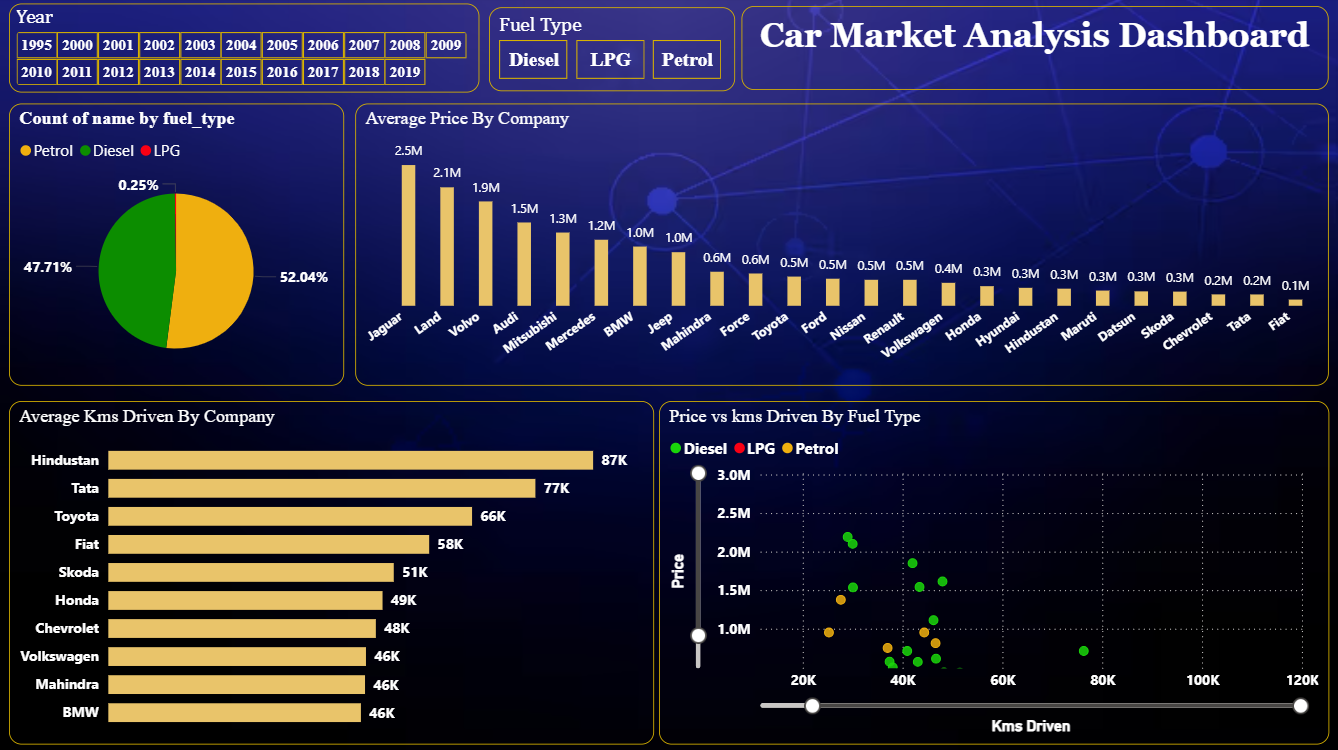

The page's visual inventory and layout, read from the dashboard file:
{"tool":"powerbi","page":{"name":"Dashboard 2","canvas":[1280,720],"ordinal":1},"visuals":[{"type":"textbox","box":[707.1,9.5,559.5,79.8],"z":0},{"type":"clusteredBarChart","title":"Average Kms Driven By Company","fields":{"Category":["Cars_Dataset_Cleand.company"],"Y":["Avg(Cars_Dataset_Cleand.kms_driven)"]},"box":[9.5,385.7,614.3,327.4],"z":1000},{"type":"pieChart","fields":{"Category":["Cars_Dataset_Cleand.fuel_type"],"Y":["CountNonNull(Cars_Dataset_Cleand.name)"]},"box":[9.5,102.4,319,269],"z":2000},{"type":"scatterChart","title":"Price vs kms Driven By Fuel Type","fields":{"X":["Avg(Cars_Dataset_Cleand.kms_driven)"],"Category":["Cars_Dataset_Cleand.company"],"Series":["Cars_Dataset_Cleand.fuel_type"],"Y":["Avg(Cars_Dataset_Cleand.Price)"]},"box":[628.6,385.7,638.1,327.4],"z":3000},{"type":"advancedSlicerVisual","title":"Fuel Type","fields":{"Values":["Cars_Dataset_Cleand.fuel_type"]},"box":[466.7,10.7,234.5,79.8],"z":4000},{"type":"advancedSlicerVisual","title":"Year","fields":{"Values":["Cars_Dataset_Cleand.year"]},"box":[9.5,7.1,447.6,84.5],"z":5000},{"type":"clusteredColumnChart","title":"Average Price By Company","fields":{"Y":["Avg(Cars_Dataset_Cleand.Price)"],"Category":["Cars_Dataset_Cleand.company"]},"box":[339.3,102.4,927.4,269],"z":6000}]}

Visuals, with their boxes in screenshot pixels (x1, y1, x2, y2), scaled from the page's 1280x720 canvas onto the 1338x750 screenshot:
textbox: select_region(739, 10, 1324, 93)
"Average Kms Driven By Company" clusteredBarChart: select_region(10, 402, 652, 743)
pieChart - Cars_Dataset_Cleand.fuel_type x CountNonNull(Cars_Dataset_Cleand.name): select_region(10, 107, 343, 387)
"Price vs kms Driven By Fuel Type" scatterChart: select_region(657, 402, 1324, 743)
"Fuel Type" advancedSlicerVisual: select_region(488, 11, 733, 94)
"Year" advancedSlicerVisual: select_region(10, 7, 478, 95)
"Average Price By Company" clusteredColumnChart: select_region(355, 107, 1324, 387)
